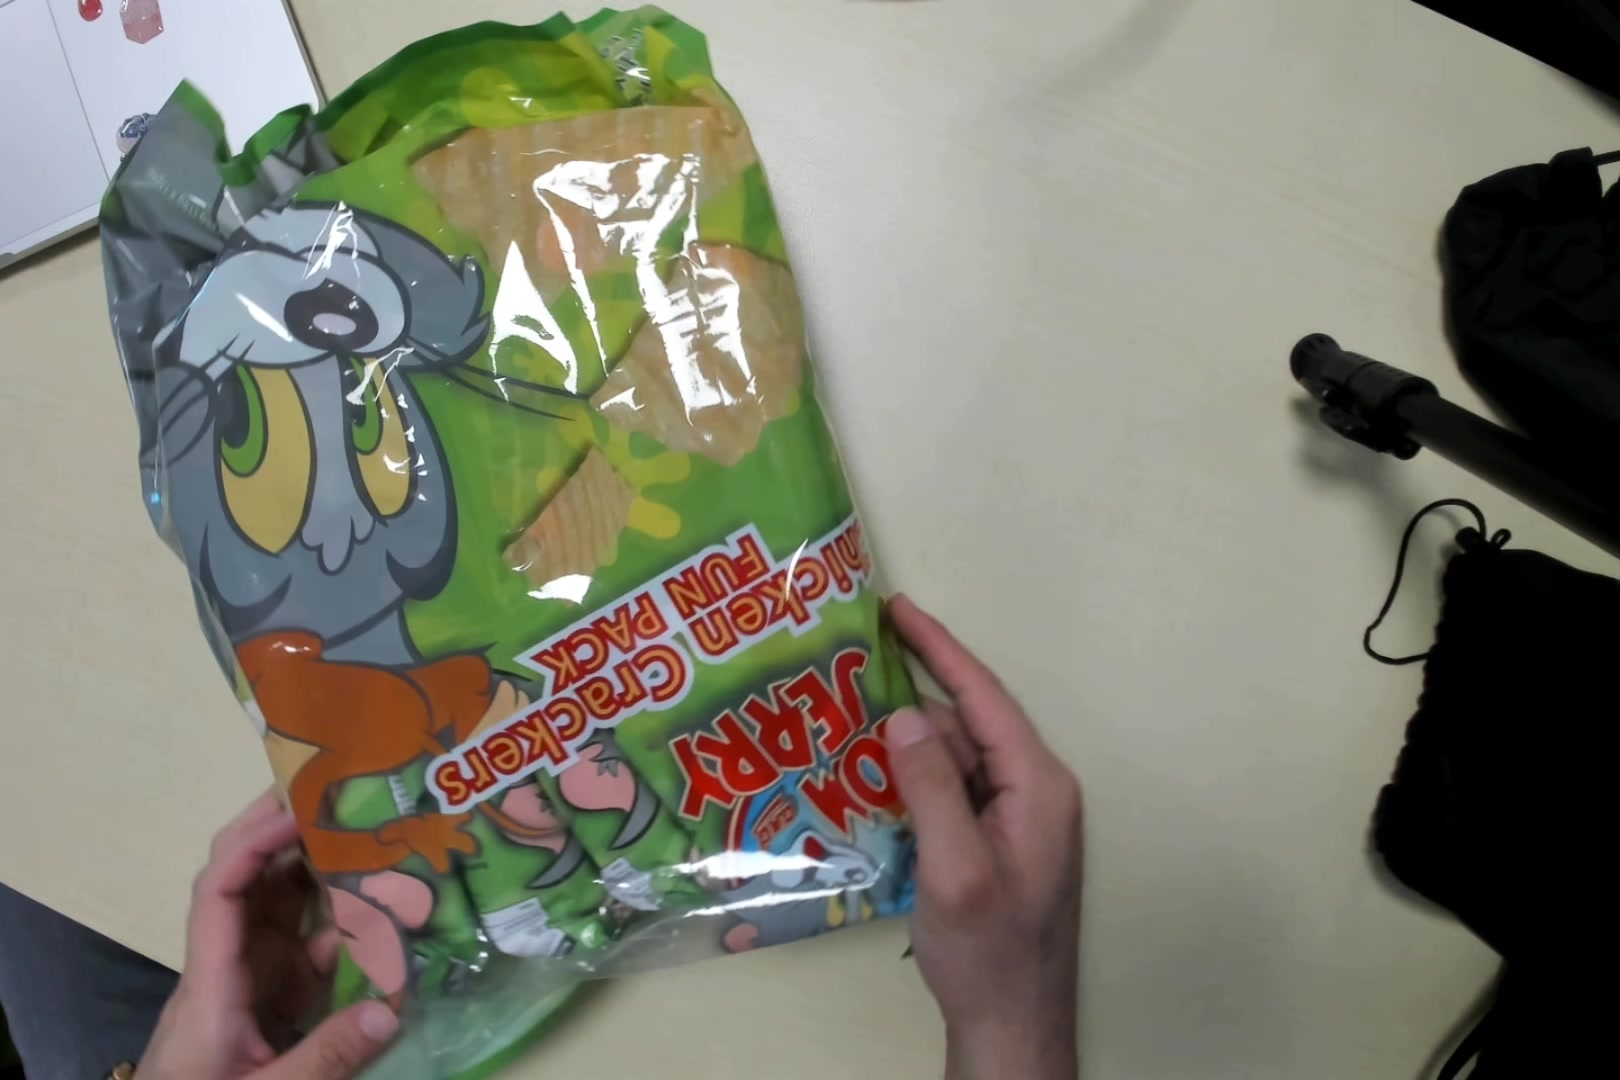PotatoChipsKeropok_200-299g_Halal_NonHealthy: (139, 67, 920, 1047)
